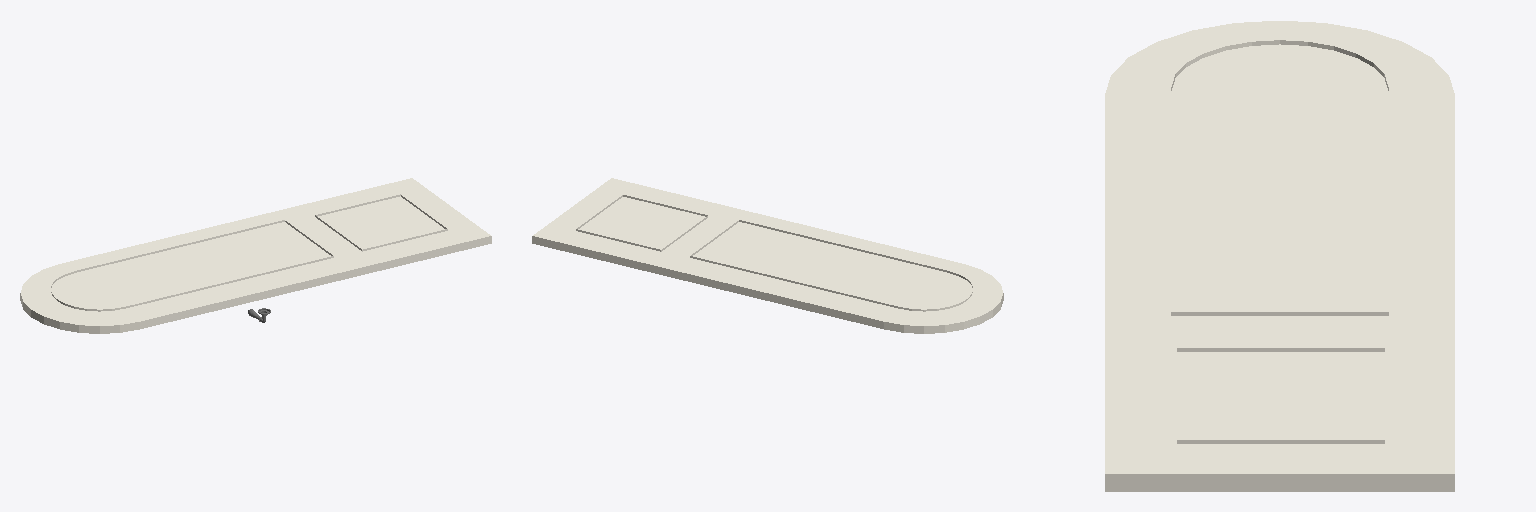
The robot description file, URDF, robot "right-push-door":
<robot name="right-push-door">
	<link name="base" />
	<link name="link_0">
		<visual name="out-frame">
			<origin xyz="0 0 0" />
			<geometry>
				<mesh filename="texture_dae/frame.dae" scale="0.8058563763082262 0.8058563763082262 0.8058563763082262" />
			</geometry>
		</visual>
		<collision>
			<origin xyz="0 0 0" />
			<geometry>
				<mesh filename="texture_dae/frame.dae" scale="0.8058563763082262 0.8058563763082262 0.8058563763082262" />
			</geometry>
		</collision>
	</link>
	<joint name="joint_0" type="fixed">
		<origin rpy="1.570796326794897 0 -1.570796326794897" xyz="0 0 0" />
		<child link="link_0" />
		<parent link="base" />
	</joint>
	<link name="link_1">
		<visual name="surf-board">
			<origin xyz="0.28976845039780375 -0.911344515531866 0" />
			<geometry>
				<mesh filename="texture_dae/board.dae" scale="0.8058563763082262 0.8058563763082262 0.8058563763082262" />
			</geometry>
		</visual>
		<collision>
			<origin xyz="0.28976845039780375 -0.911344515531866 0" />
			<geometry>
				<mesh filename="texture_dae/board.dae" scale="0.8058563763082262 0.8058563763082262 0.8058563763082262" />
			</geometry>
		</collision>
	</link>
	<joint name="joint_1" type="revolute">
		<origin xyz="-0.28976845039780375 0.911344515531866 0" />
		<axis xyz="0 -1 0" />
		<child link="link_1" />
		<parent link="link_0" />
		<limit lower="-1.5079644737231006" upper="-0.0" />
	</joint>
	<link name="link_2">
		<visual name="handle">
			<origin xyz="0 0 0" />
			<geometry>
				<mesh filename="texture_dae/9960024.dae" scale="0.9205565121456872 0.9205565121456872 0.9205565121456872" />
			</geometry>
		</visual>
		<collision>
			<origin xyz="0 0 0" />
			<geometry>
				<mesh filename="texture_dae/9960024.dae" scale="0.9205565121456872 0.9205565121456872 0.9205565121456872" />
			</geometry>
		</collision>
	</link>
	<joint name="joint_2" type="revolute">
		<origin xyz="0.5163335461102969 -1.0290850593231289 0.023484701758352815" />
		<child link="link_2" />
		<parent link="link_1" />
		<axis xyz="0 0 1" />
		<limit lower="0" upper="0" />
	</joint>
</robot>

--- Render facts (derived) ---
The picture shows the robot from 3 angles, left to right: view 1: azimuth 30°, elevation 25°; view 2: azimuth 150°, elevation 25°; view 3: azimuth 270°, elevation 25°; orthographic projection.
Model right-push-door with 4 links and 3 joints (2 revolute, 1 fixed), rooted at base, posed all joints at 0.
Links seen in each view (by area): view 1: link_1; view 2: link_1; view 3: link_1.
Link boxes in pixels (x1,y1,x2,y2): link_1: [20, 178, 491, 333]; link_1: [532, 178, 1003, 333]; link_1: [1105, 21, 1454, 491].
Bounding box of the posed robot: 1.83 × 0.5963 × 0.2005 m (x, y, z).
2 mesh visuals loaded from 3 distinct referenced files (2 Collada DAE); not drawn: 1 (reference not matched to a file when rendering).
